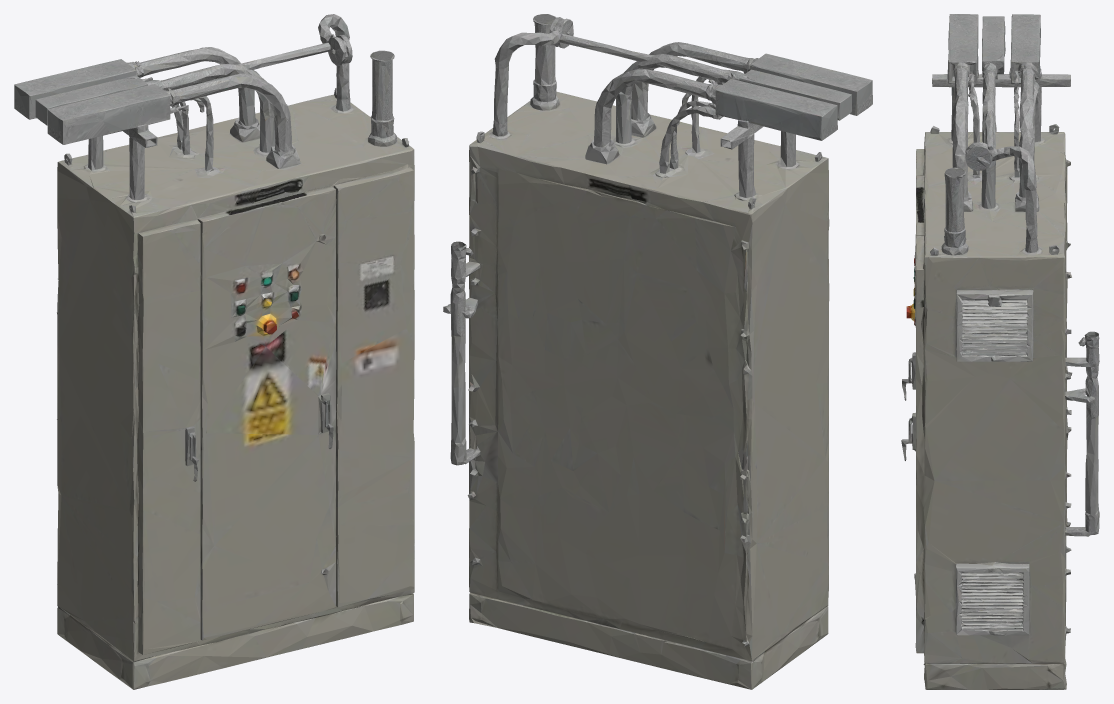
Rendered from tablero_plc.glb.
The picture shows the model from 3 angles, left to right: view 1: azimuth 30°, elevation 25°; view 2: azimuth 150°, elevation 25°; view 3: azimuth 270°, elevation 25°; orthographic projection. The views are drawn at different scales.
Visible parts, largest first — view 1: d.obj; view 2: d.obj; view 3: d.obj.
Part boxes in pixels (x1=…): d.obj: x1=14, y1=14, x2=414, y2=689; d.obj: x1=443, y1=14, x2=872, y2=689; d.obj: x1=901, y1=14, x2=1099, y2=689.
Size of the model in its own units: 1.21 by 1.91 by 0.6499.
Materials: 1 (1 with a texture image).
